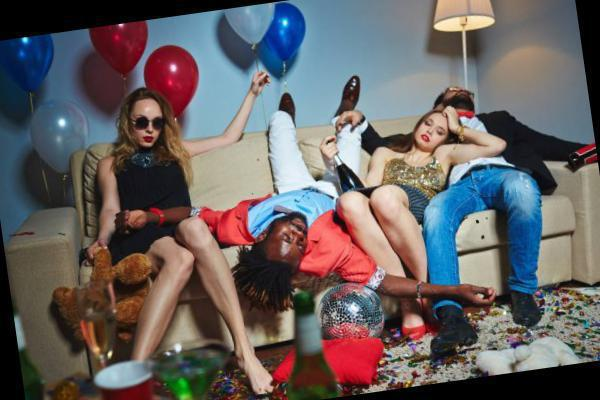Drunk: (129, 96, 164, 148), (277, 210, 309, 266), (414, 116, 444, 148)
